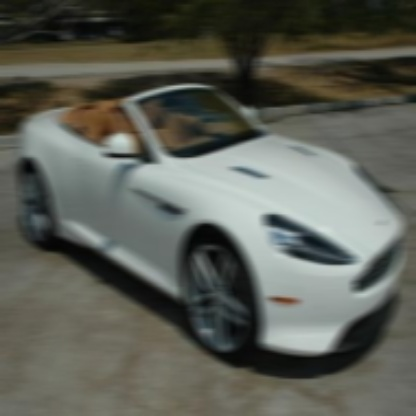Vehicle: (16, 80, 406, 373)
